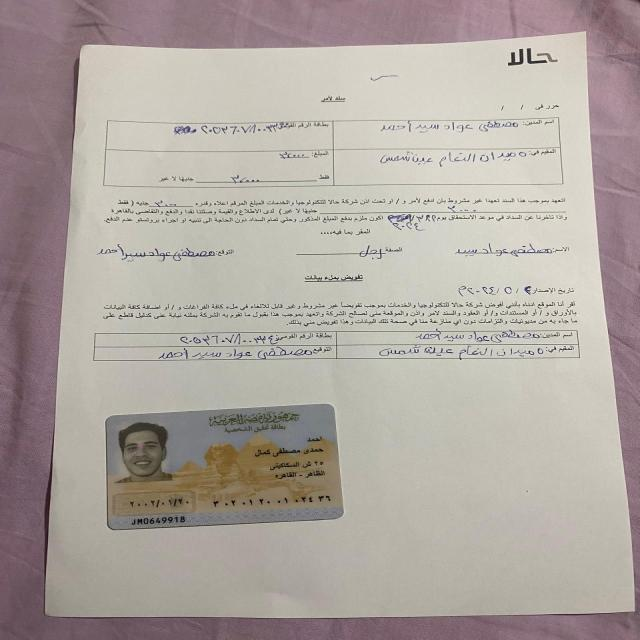ID-cards: (100, 401, 348, 533)
